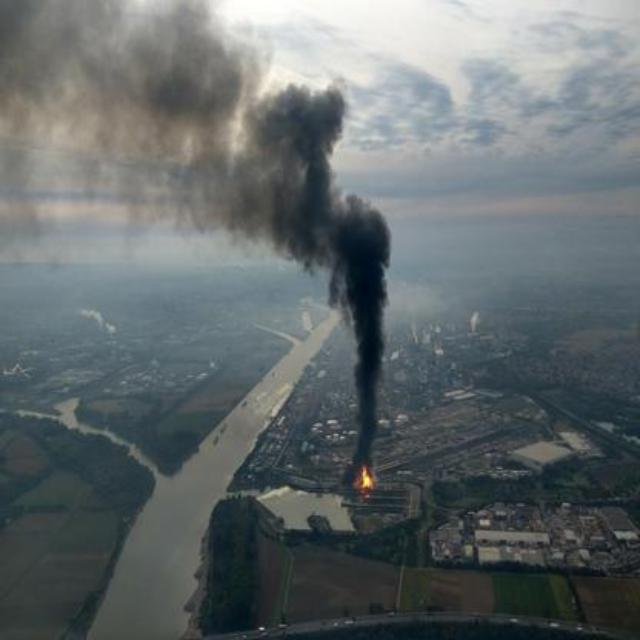Fire: (355, 466, 377, 499)
Smoke: (14, 12, 380, 268), (336, 276, 400, 466)
